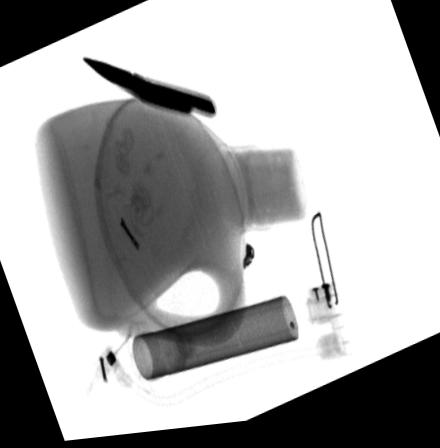Pliers: (80, 57, 218, 125)
